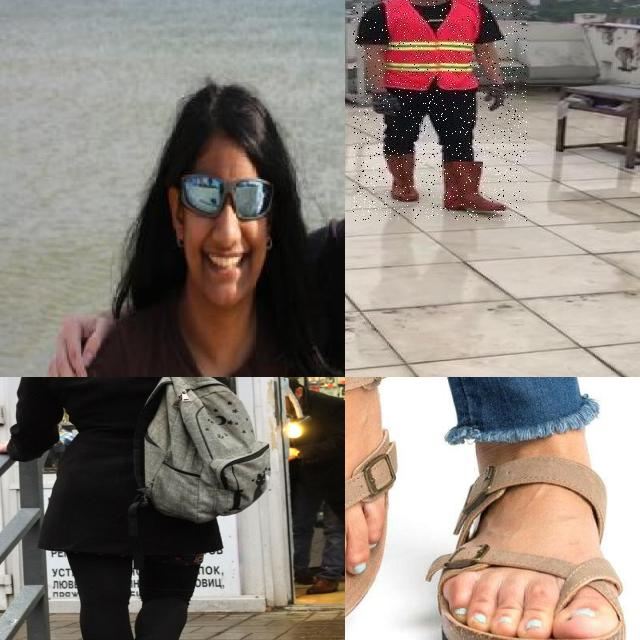Sandals: (436, 410, 629, 640)
boots: (446, 163, 514, 213), (380, 152, 419, 200)
face_nomask: (175, 168, 279, 296)
glasses: (178, 173, 274, 224)
hand_noglove: (40, 312, 112, 377)
head_nohelmet: (162, 78, 289, 158)
person: (70, 63, 331, 377), (353, 0, 527, 221)
vest: (383, 0, 479, 93)
